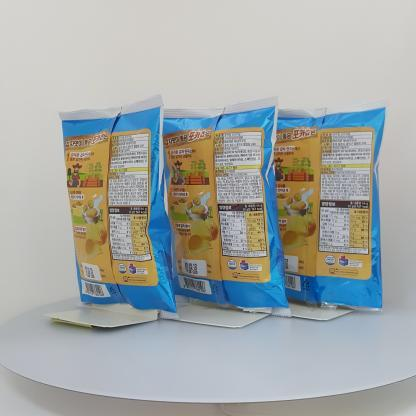Plastic Packaging: (49, 92, 179, 314), (158, 103, 272, 323), (270, 106, 380, 314)
